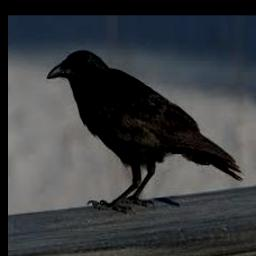Crow: (47, 50, 246, 212)
